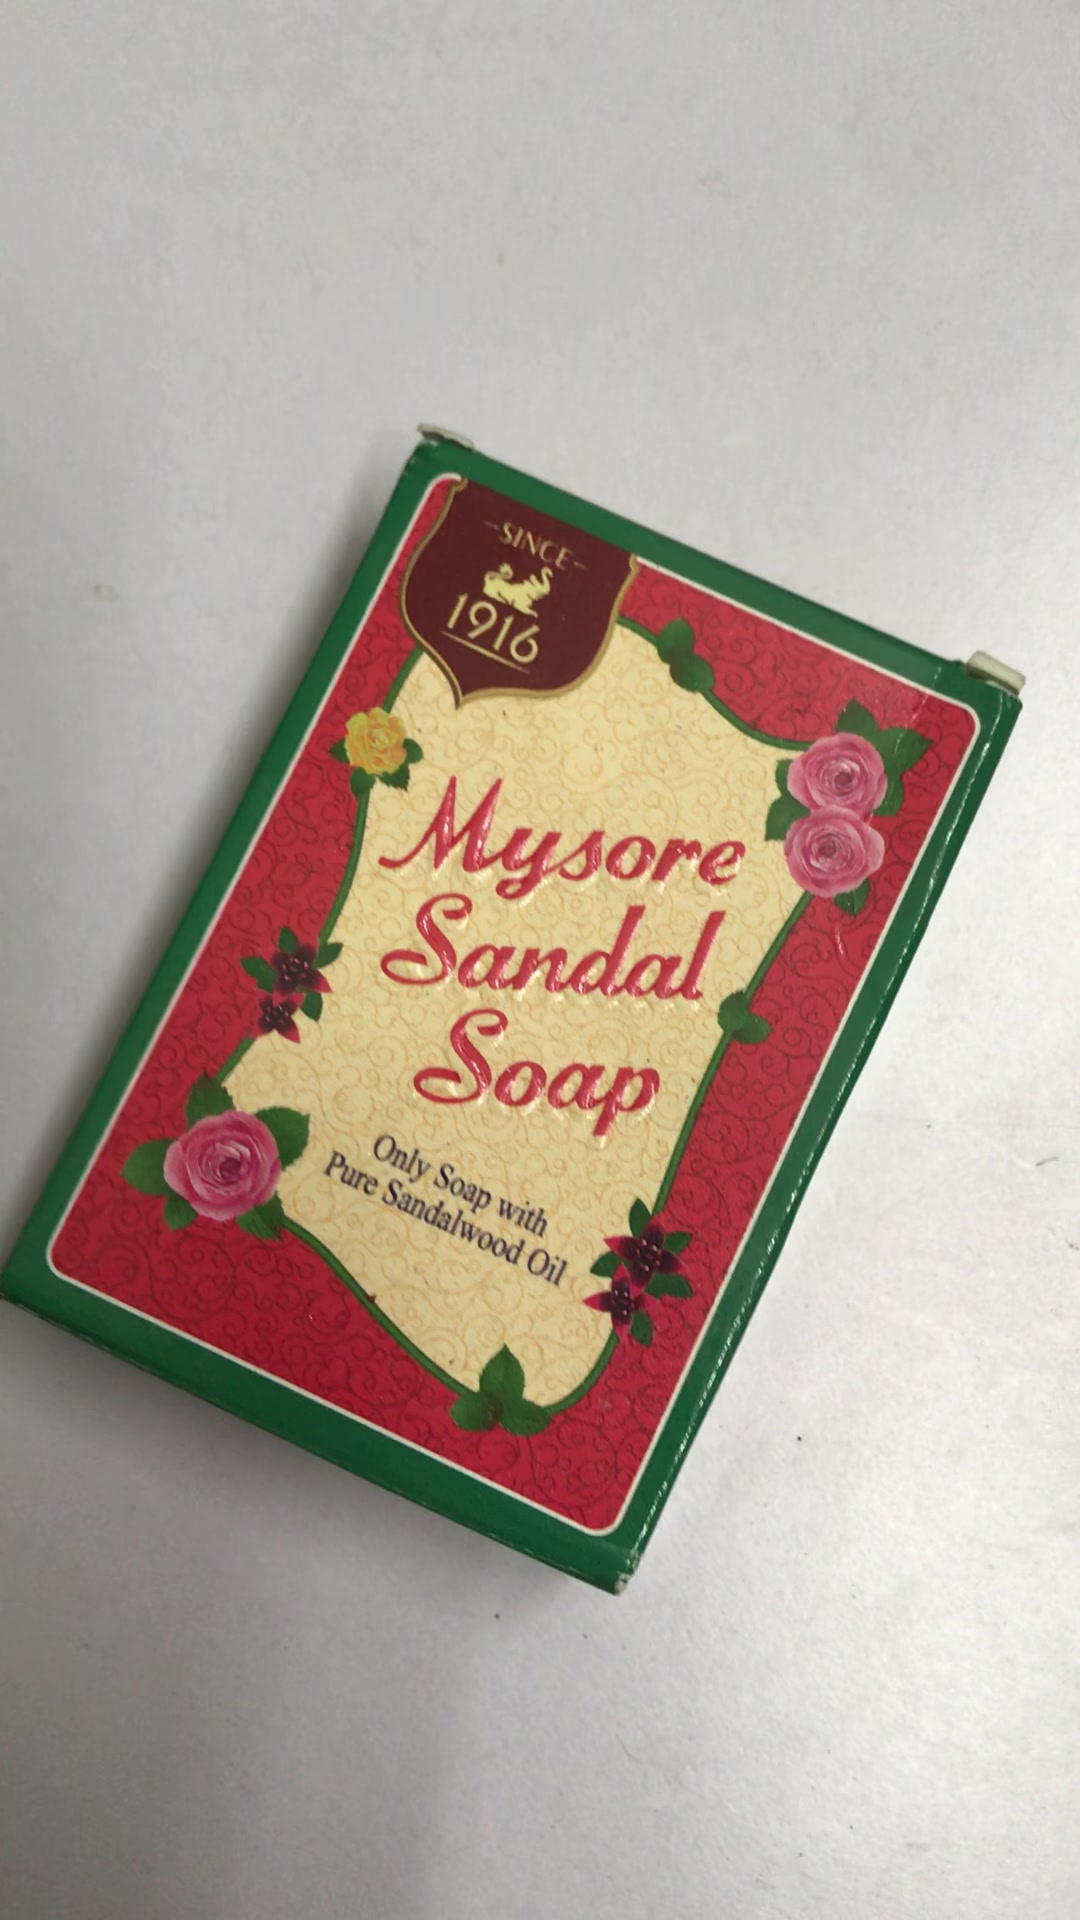mysore sandal soap: (1, 425, 1029, 1594)
